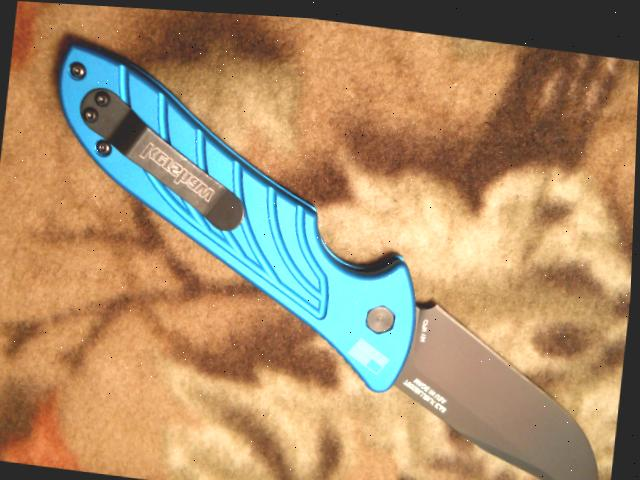pocket-knife: (0, 34, 639, 480)
